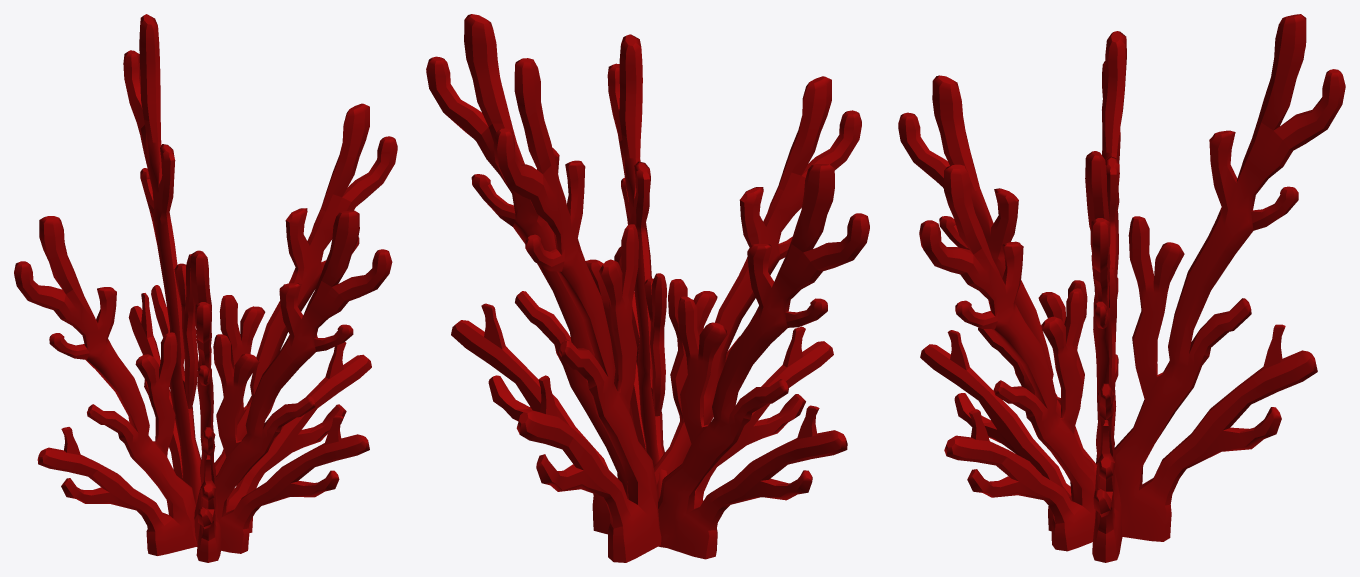
Rendered from coral.glb.
3 renders of one model, left to right at view 1: azimuth 30°, elevation 25°; view 2: azimuth 150°, elevation 25°; view 3: azimuth 270°, elevation 25°, orthographic. The views are drawn at different scales.
Visible parts, largest first — view 1: pCylinder23; view 2: pCylinder23; view 3: pCylinder23.
Boxes of the visible parts, bbox=[...] form: pCylinder23: bbox=[14, 14, 397, 562]; pCylinder23: bbox=[426, 14, 869, 562]; pCylinder23: bbox=[898, 14, 1345, 562].
Size of the model in its own units: 15.96 by 18.48 by 13.97.
